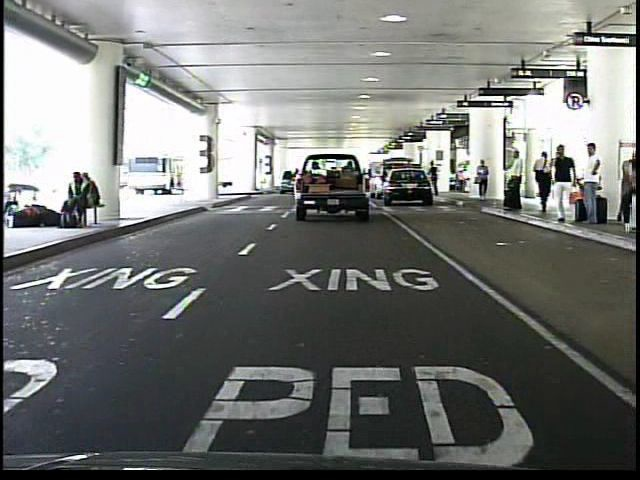person: (547, 142, 581, 230), (578, 136, 606, 231), (502, 148, 528, 213), (533, 145, 557, 214), (475, 159, 492, 203), (428, 161, 441, 200)
